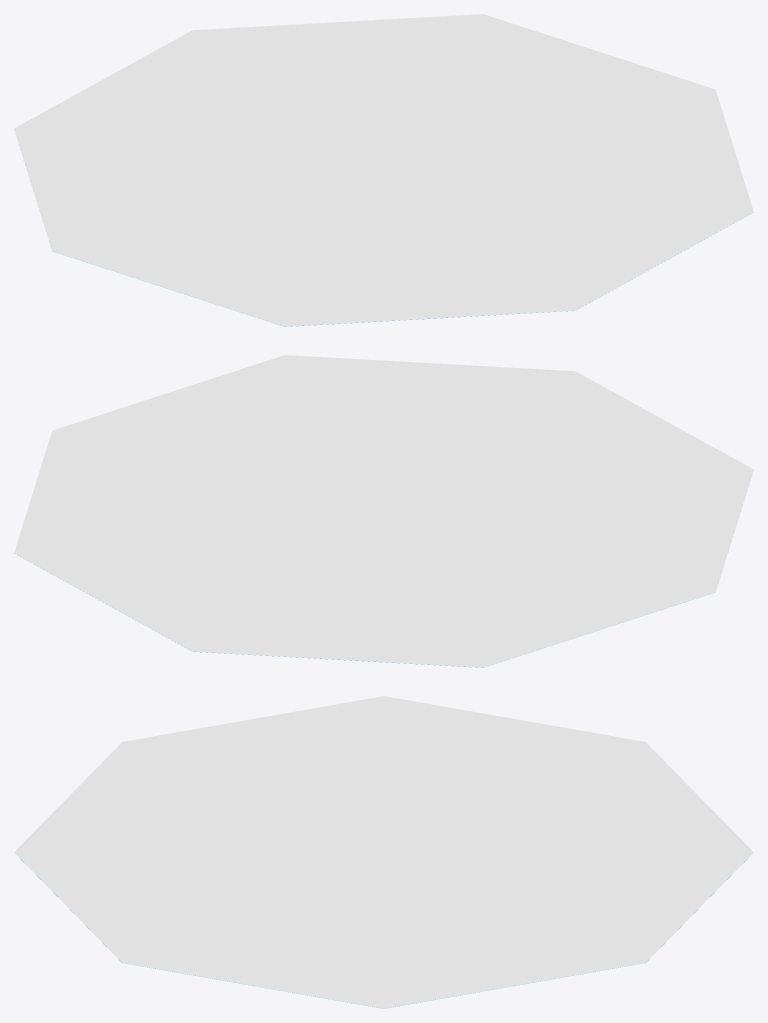
File: beach_courseD-beach_waterC.glb
The picture shows the model from 3 angles, top to bottom: view 1: azimuth 30°, elevation 25°; view 2: azimuth 150°, elevation 25°; view 3: azimuth 270°, elevation 25°; orthographic projection. The views are drawn at different scales.
Visible parts, largest first — view 1: beach_waterC; view 2: beach_waterC; view 3: beach_waterC.
Boxes of the visible parts, x1,y1,x2,y2 form: beach_waterC: (14,14,753,326); beach_waterC: (14,355,753,667); beach_waterC: (14,696,753,1008).
Bounding box in the file's own units: 862 × 0.125 × 862.
2 materials, 2 textured.
